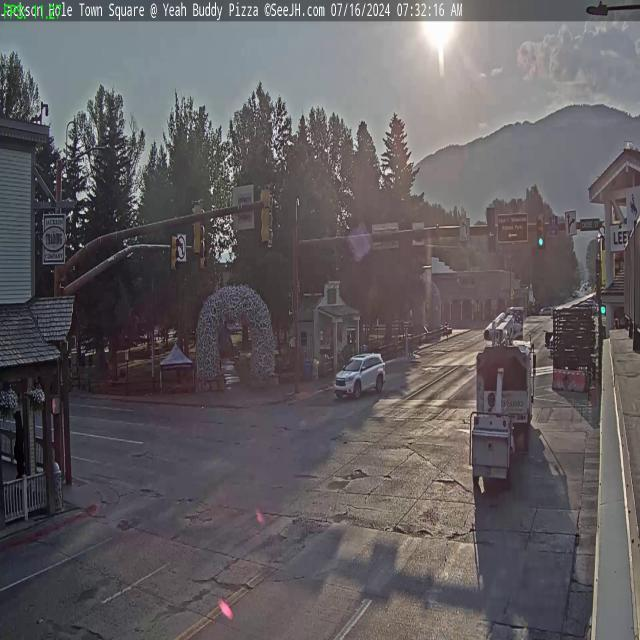suv: (333, 353, 387, 400)
traffic light: (190, 200, 204, 256), (260, 184, 272, 244), (486, 208, 497, 254), (171, 231, 180, 274), (537, 214, 545, 248)
truck: (468, 315, 536, 486)
